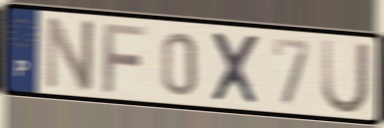0: (159, 29, 203, 97)
7: (270, 36, 311, 109)
F: (100, 19, 150, 95)
N: (43, 13, 97, 94)
U: (320, 36, 371, 116)
X: (208, 29, 261, 108)
